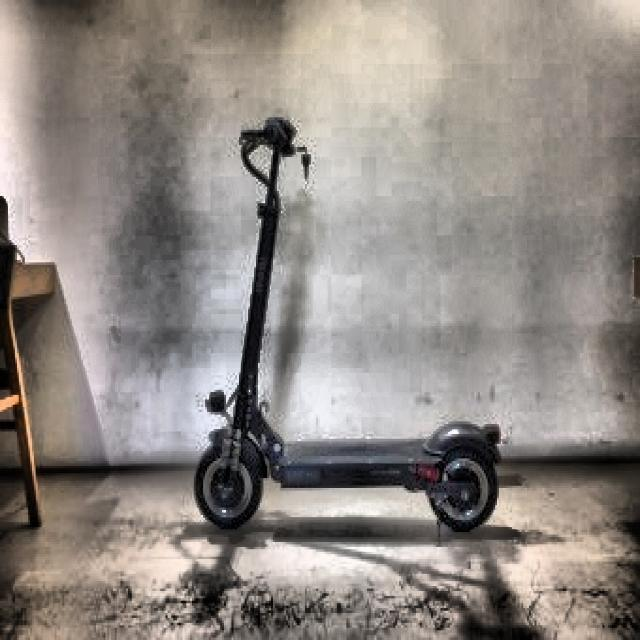bike: (192, 116, 505, 535)
